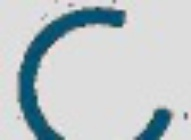ProgressBar: (1, 1, 190, 139)
